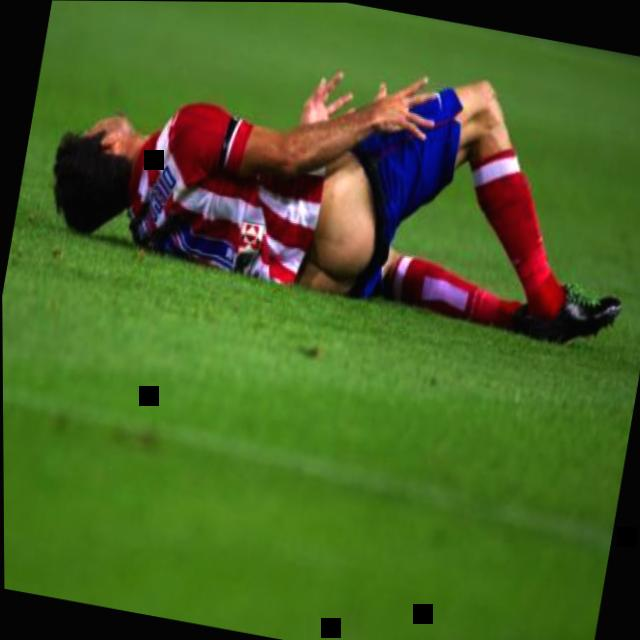Fall-Detected: (48, 0, 640, 361)
